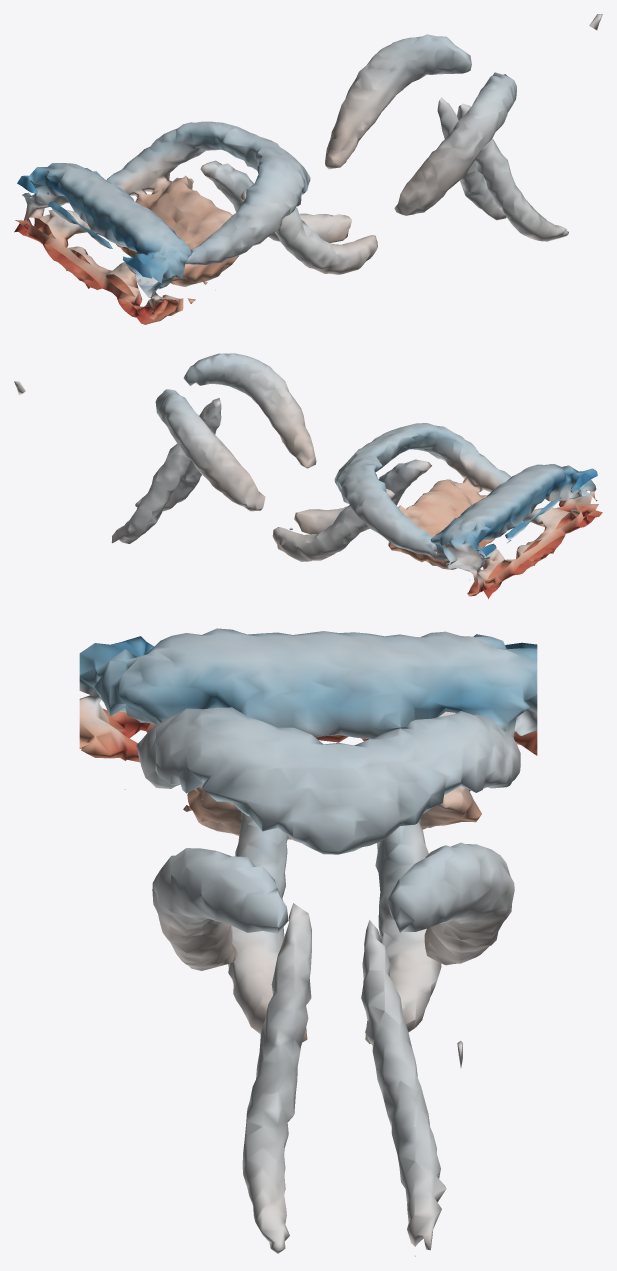
The picture shows the model from 3 angles, top to bottom: view 1: azimuth 30°, elevation 25°; view 2: azimuth 150°, elevation 25°; view 3: azimuth 270°, elevation 25°; orthographic projection. The views are drawn at different scales.
Size of the model in its own units: 6.24 by 2.05 by 2.5.
